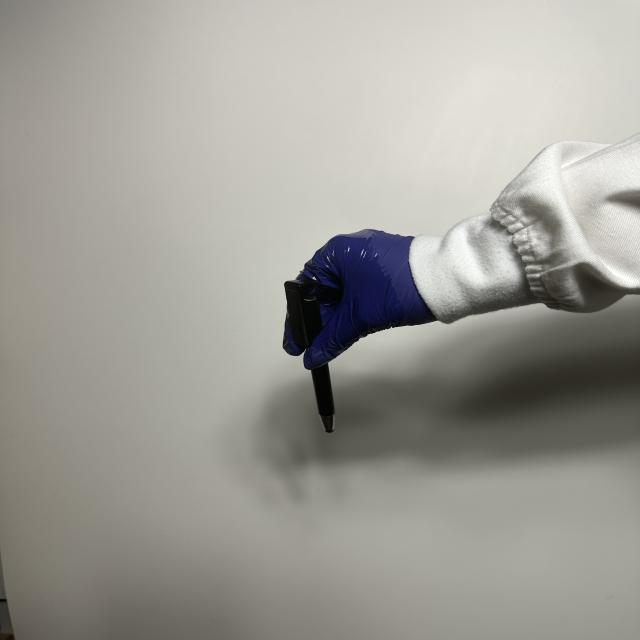gloves_contaminated: (283, 229, 436, 370)
